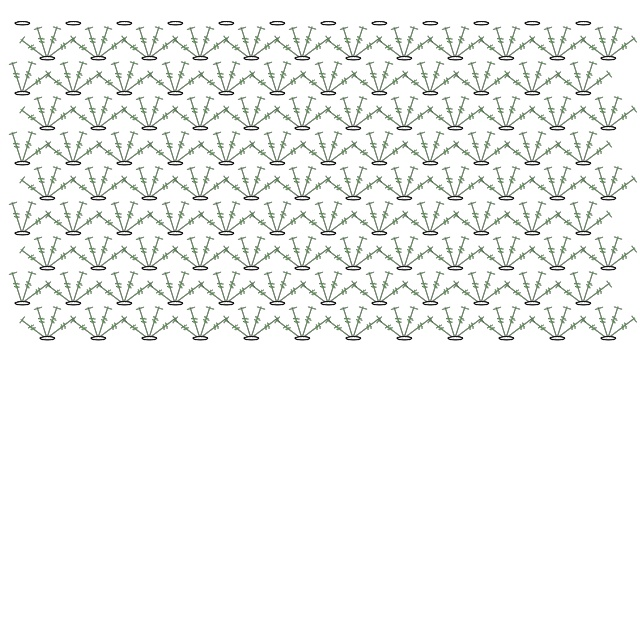chain: (64, 20, 84, 28), (166, 20, 186, 28), (268, 20, 288, 28), (370, 20, 390, 28), (472, 20, 492, 28), (574, 20, 594, 28), (64, 90, 84, 98), (166, 90, 186, 98), (268, 90, 288, 98), (370, 90, 390, 98), (472, 90, 492, 98), (574, 90, 594, 98), (64, 160, 84, 168), (166, 160, 186, 168), (268, 160, 288, 168), (370, 160, 390, 168), (472, 160, 492, 168), (574, 160, 594, 168), (64, 230, 84, 238), (166, 230, 186, 238), (268, 230, 288, 238), (370, 230, 390, 238), (472, 230, 492, 238), (574, 230, 594, 238), (64, 300, 84, 308), (166, 300, 186, 308), (268, 300, 288, 308), (370, 300, 390, 308), (472, 300, 492, 308), (574, 300, 594, 308), (14, 20, 32, 28), (116, 20, 134, 28), (218, 20, 236, 28), (320, 20, 338, 28), (422, 20, 440, 28), (524, 20, 542, 28), (14, 90, 32, 98), (116, 90, 134, 98), (218, 90, 236, 98), (320, 90, 338, 98), (422, 90, 440, 98), (524, 90, 542, 98), (14, 160, 32, 168), (116, 160, 134, 168), (218, 160, 236, 168), (320, 160, 338, 168), (422, 160, 440, 168), (524, 160, 542, 168), (14, 230, 32, 238), (116, 230, 134, 238), (218, 230, 236, 238), (320, 230, 338, 238), (422, 230, 440, 238), (524, 230, 542, 238), (14, 300, 32, 308), (116, 300, 134, 308), (218, 300, 236, 308), (320, 300, 338, 308), (422, 300, 440, 308), (524, 300, 542, 308), (38, 56, 58, 62), (140, 56, 160, 62), (242, 56, 262, 62), (344, 56, 364, 62), (446, 56, 466, 62), (548, 56, 568, 62), (38, 126, 58, 132), (140, 126, 160, 132), (242, 126, 262, 132), (344, 126, 364, 132), (446, 126, 466, 132), (548, 126, 568, 132), (38, 196, 58, 202), (140, 196, 160, 202), (242, 196, 262, 202), (344, 196, 364, 202), (446, 196, 466, 202), (548, 196, 568, 202), (38, 266, 58, 272), (140, 266, 160, 272), (242, 266, 262, 272), (344, 266, 364, 272), (446, 266, 466, 272), (548, 266, 568, 272), (38, 336, 58, 342), (140, 336, 160, 342), (242, 336, 262, 342), (344, 336, 364, 342), (446, 336, 466, 342), (548, 336, 568, 342), (90, 56, 108, 62), (192, 56, 210, 62), (294, 56, 312, 62), (396, 56, 414, 62), (498, 56, 516, 62), (600, 56, 618, 62), (90, 126, 108, 132), (192, 126, 210, 132), (294, 126, 312, 132), (396, 126, 414, 132), (498, 126, 516, 132), (600, 126, 618, 132), (90, 196, 108, 202), (192, 196, 210, 202), (294, 196, 312, 202), (396, 196, 414, 202), (498, 196, 516, 202), (600, 196, 618, 202), (90, 266, 108, 272), (192, 266, 210, 272), (294, 266, 312, 272), (396, 266, 414, 272), (498, 266, 516, 272), (600, 266, 618, 272), (90, 336, 108, 342), (192, 336, 210, 342), (294, 336, 312, 342), (396, 336, 414, 342), (498, 336, 516, 342), (600, 336, 618, 342)
fan: (17, 34, 52, 64), (44, 34, 79, 64), (68, 34, 103, 64), (95, 34, 130, 64), (119, 34, 154, 64), (146, 34, 181, 64), (170, 34, 205, 64), (197, 34, 232, 64), (221, 34, 256, 64), (248, 34, 283, 64), (272, 34, 307, 64), (299, 34, 334, 64), (323, 34, 358, 64), (350, 34, 385, 64), (374, 34, 409, 64), (401, 34, 436, 64), (425, 34, 460, 64), (452, 34, 487, 64), (476, 34, 511, 64), (503, 34, 538, 64), (527, 34, 562, 64), (554, 34, 589, 64), (578, 34, 613, 64), (605, 34, 640, 64), (19, 69, 54, 99), (43, 69, 78, 99), (70, 69, 105, 99), (94, 69, 129, 99), (121, 69, 156, 99), (145, 69, 180, 99), (172, 69, 207, 99), (196, 69, 231, 99), (223, 69, 258, 99), (247, 69, 282, 99), (274, 69, 309, 99), (298, 69, 333, 99), (325, 69, 360, 99), (349, 69, 384, 99), (376, 69, 411, 99), (400, 69, 435, 99), (427, 69, 462, 99), (451, 69, 486, 99), (478, 69, 513, 99), (502, 69, 537, 99), (529, 69, 564, 99), (553, 69, 588, 99), (580, 69, 615, 99), (17, 104, 52, 134), (44, 104, 79, 134), (68, 104, 103, 134), (95, 104, 130, 134), (119, 104, 154, 134), (146, 104, 181, 134), (170, 104, 205, 134), (197, 104, 232, 134), (221, 104, 256, 134), (248, 104, 283, 134), (272, 104, 307, 134), (299, 104, 334, 134), (323, 104, 358, 134), (350, 104, 385, 134), (374, 104, 409, 134), (401, 104, 436, 134), (425, 104, 460, 134), (452, 104, 487, 134), (476, 104, 511, 134), (503, 104, 538, 134), (527, 104, 562, 134), (554, 104, 589, 134), (578, 104, 613, 134), (605, 104, 640, 134), (19, 139, 54, 169), (43, 139, 78, 169), (70, 139, 105, 169), (94, 139, 129, 169), (121, 139, 156, 169), (145, 139, 180, 169), (172, 139, 207, 169), (196, 139, 231, 169), (223, 139, 258, 169), (247, 139, 282, 169), (274, 139, 309, 169), (298, 139, 333, 169), (325, 139, 360, 169), (349, 139, 384, 169), (376, 139, 411, 169), (400, 139, 435, 169), (427, 139, 462, 169), (451, 139, 486, 169), (478, 139, 513, 169), (502, 139, 537, 169), (529, 139, 564, 169), (553, 139, 588, 169), (580, 139, 615, 169), (17, 174, 52, 204), (44, 174, 79, 204), (68, 174, 103, 204), (95, 174, 130, 204), (119, 174, 154, 204), (146, 174, 181, 204), (170, 174, 205, 204), (197, 174, 232, 204), (221, 174, 256, 204), (248, 174, 283, 204), (272, 174, 307, 204), (299, 174, 334, 204), (323, 174, 358, 204), (350, 174, 385, 204), (374, 174, 409, 204), (401, 174, 436, 204), (425, 174, 460, 204), (452, 174, 487, 204), (476, 174, 511, 204), (503, 174, 538, 204), (527, 174, 562, 204), (554, 174, 589, 204), (578, 174, 613, 204), (605, 174, 640, 204), (19, 209, 54, 239), (43, 209, 78, 239), (70, 209, 105, 239), (94, 209, 129, 239), (121, 209, 156, 239), (145, 209, 180, 239), (172, 209, 207, 239), (196, 209, 231, 239), (223, 209, 258, 239), (247, 209, 282, 239), (274, 209, 309, 239), (298, 209, 333, 239), (325, 209, 360, 239), (349, 209, 384, 239), (376, 209, 411, 239), (400, 209, 435, 239), (427, 209, 462, 239), (451, 209, 486, 239), (478, 209, 513, 239), (502, 209, 537, 239), (529, 209, 564, 239), (553, 209, 588, 239), (580, 209, 615, 239), (17, 244, 52, 274), (44, 244, 79, 274), (68, 244, 103, 274), (95, 244, 130, 274), (119, 244, 154, 274), (146, 244, 181, 274), (170, 244, 205, 274), (197, 244, 232, 274), (221, 244, 256, 274), (248, 244, 283, 274), (272, 244, 307, 274), (299, 244, 334, 274), (323, 244, 358, 274), (350, 244, 385, 274), (374, 244, 409, 274), (401, 244, 436, 274), (425, 244, 460, 274), (452, 244, 487, 274), (476, 244, 511, 274), (503, 244, 538, 274), (527, 244, 562, 274), (554, 244, 589, 274), (578, 244, 613, 274), (605, 244, 640, 274), (19, 279, 54, 309), (43, 279, 78, 309), (70, 279, 105, 309), (94, 279, 129, 309), (121, 279, 156, 309), (145, 279, 180, 309), (172, 279, 207, 309), (196, 279, 231, 309), (223, 279, 258, 309), (247, 279, 282, 309), (274, 279, 309, 309), (298, 279, 333, 309), (325, 279, 360, 309), (349, 279, 384, 309), (376, 279, 411, 309), (400, 279, 435, 309), (427, 279, 462, 309), (451, 279, 486, 309), (478, 279, 513, 309), (502, 279, 537, 309), (529, 279, 564, 309), (553, 279, 588, 309), (580, 279, 615, 309), (17, 314, 52, 344), (44, 314, 79, 344), (68, 314, 103, 344), (95, 314, 130, 344), (119, 314, 154, 344), (146, 314, 181, 344), (170, 314, 205, 344), (197, 314, 232, 344), (221, 314, 256, 344), (248, 314, 283, 344), (272, 314, 307, 344), (299, 314, 334, 344), (323, 314, 358, 344), (350, 314, 385, 344), (374, 314, 409, 344), (401, 314, 436, 344), (425, 314, 460, 344), (452, 314, 487, 344), (476, 314, 511, 344), (503, 314, 538, 344), (527, 314, 562, 344), (554, 314, 589, 344), (578, 314, 613, 344), (605, 314, 640, 344), (32, 25, 54, 61), (42, 25, 64, 61), (83, 25, 105, 61), (93, 25, 115, 61), (134, 25, 156, 61), (144, 25, 166, 61), (185, 25, 207, 61), (195, 25, 217, 61), (236, 25, 258, 61), (246, 25, 268, 61), (287, 25, 309, 61), (297, 25, 319, 61), (338, 25, 360, 61), (348, 25, 370, 61), (389, 25, 411, 61), (399, 25, 421, 61), (440, 25, 462, 61), (450, 25, 472, 61), (491, 25, 513, 61), (501, 25, 523, 61), (542, 25, 564, 61), (552, 25, 574, 61), (593, 25, 615, 61), (603, 25, 625, 61), (7, 60, 29, 96), (17, 60, 39, 96), (58, 60, 80, 96), (68, 60, 90, 96), (109, 60, 131, 96), (119, 60, 141, 96), (160, 60, 182, 96), (170, 60, 192, 96), (211, 60, 233, 96), (221, 60, 243, 96), (262, 60, 284, 96), (272, 60, 294, 96), (313, 60, 335, 96), (323, 60, 345, 96), (364, 60, 386, 96), (374, 60, 396, 96), (415, 60, 437, 96), (425, 60, 447, 96), (466, 60, 488, 96), (476, 60, 498, 96), (517, 60, 539, 96), (527, 60, 549, 96), (568, 60, 590, 96), (578, 60, 600, 96), (32, 95, 54, 131), (42, 95, 64, 131), (83, 95, 105, 131), (93, 95, 115, 131), (134, 95, 156, 131), (144, 95, 166, 131), (185, 95, 207, 131), (195, 95, 217, 131), (236, 95, 258, 131), (246, 95, 268, 131), (287, 95, 309, 131), (297, 95, 319, 131), (338, 95, 360, 131), (348, 95, 370, 131), (389, 95, 411, 131), (399, 95, 421, 131), (440, 95, 462, 131), (450, 95, 472, 131), (491, 95, 513, 131), (501, 95, 523, 131), (542, 95, 564, 131), (552, 95, 574, 131), (593, 95, 615, 131), (603, 95, 625, 131), (7, 130, 29, 166), (17, 130, 39, 166), (58, 130, 80, 166), (68, 130, 90, 166), (109, 130, 131, 166), (119, 130, 141, 166), (160, 130, 182, 166), (170, 130, 192, 166), (211, 130, 233, 166), (221, 130, 243, 166), (262, 130, 284, 166), (272, 130, 294, 166), (313, 130, 335, 166), (323, 130, 345, 166), (364, 130, 386, 166), (374, 130, 396, 166), (415, 130, 437, 166), (425, 130, 447, 166), (466, 130, 488, 166), (476, 130, 498, 166), (517, 130, 539, 166), (527, 130, 549, 166), (568, 130, 590, 166), (578, 130, 600, 166), (32, 165, 54, 201), (42, 165, 64, 201), (83, 165, 105, 201), (93, 165, 115, 201), (134, 165, 156, 201), (144, 165, 166, 201), (185, 165, 207, 201), (195, 165, 217, 201), (236, 165, 258, 201), (246, 165, 268, 201), (287, 165, 309, 201), (297, 165, 319, 201), (338, 165, 360, 201), (348, 165, 370, 201), (389, 165, 411, 201), (399, 165, 421, 201), (440, 165, 462, 201), (450, 165, 472, 201), (491, 165, 513, 201), (501, 165, 523, 201), (542, 165, 564, 201), (552, 165, 574, 201), (593, 165, 615, 201), (603, 165, 625, 201), (7, 200, 29, 236), (17, 200, 39, 236), (58, 200, 80, 236), (68, 200, 90, 236), (109, 200, 131, 236), (119, 200, 141, 236), (160, 200, 182, 236), (170, 200, 192, 236), (211, 200, 233, 236), (221, 200, 243, 236), (262, 200, 284, 236), (272, 200, 294, 236), (313, 200, 335, 236), (323, 200, 345, 236), (364, 200, 386, 236), (374, 200, 396, 236), (415, 200, 437, 236), (425, 200, 447, 236), (466, 200, 488, 236), (476, 200, 498, 236), (517, 200, 539, 236), (527, 200, 549, 236), (568, 200, 590, 236), (578, 200, 600, 236), (32, 235, 54, 271), (42, 235, 64, 271), (83, 235, 105, 271), (93, 235, 115, 271), (134, 235, 156, 271), (144, 235, 166, 271), (185, 235, 207, 271), (195, 235, 217, 271), (236, 235, 258, 271), (246, 235, 268, 271), (287, 235, 309, 271), (297, 235, 319, 271), (338, 235, 360, 271), (348, 235, 370, 271), (389, 235, 411, 271), (399, 235, 421, 271), (440, 235, 462, 271), (450, 235, 472, 271), (491, 235, 513, 271), (501, 235, 523, 271), (542, 235, 564, 271), (552, 235, 574, 271), (593, 235, 615, 271), (603, 235, 625, 271), (7, 270, 29, 306), (17, 270, 39, 306), (58, 270, 80, 306), (68, 270, 90, 306), (109, 270, 131, 306), (119, 270, 141, 306), (160, 270, 182, 306), (170, 270, 192, 306), (211, 270, 233, 306), (221, 270, 243, 306), (262, 270, 284, 306), (272, 270, 294, 306), (313, 270, 335, 306), (323, 270, 345, 306), (364, 270, 386, 306), (374, 270, 396, 306), (415, 270, 437, 306), (425, 270, 447, 306), (466, 270, 488, 306), (476, 270, 498, 306), (517, 270, 539, 306), (527, 270, 549, 306), (568, 270, 590, 306), (578, 270, 600, 306), (32, 305, 54, 341), (42, 305, 64, 341), (83, 305, 105, 341), (93, 305, 115, 341), (134, 305, 156, 341), (144, 305, 166, 341), (185, 305, 207, 341), (195, 305, 217, 341), (236, 305, 258, 341), (246, 305, 268, 341), (287, 305, 309, 341), (297, 305, 319, 341), (338, 305, 360, 341), (348, 305, 370, 341), (389, 305, 411, 341), (399, 305, 421, 341), (440, 305, 462, 341), (450, 305, 472, 341), (491, 305, 513, 341), (501, 305, 523, 341), (542, 305, 564, 341), (552, 305, 574, 341), (593, 305, 615, 341), (603, 305, 625, 341)
